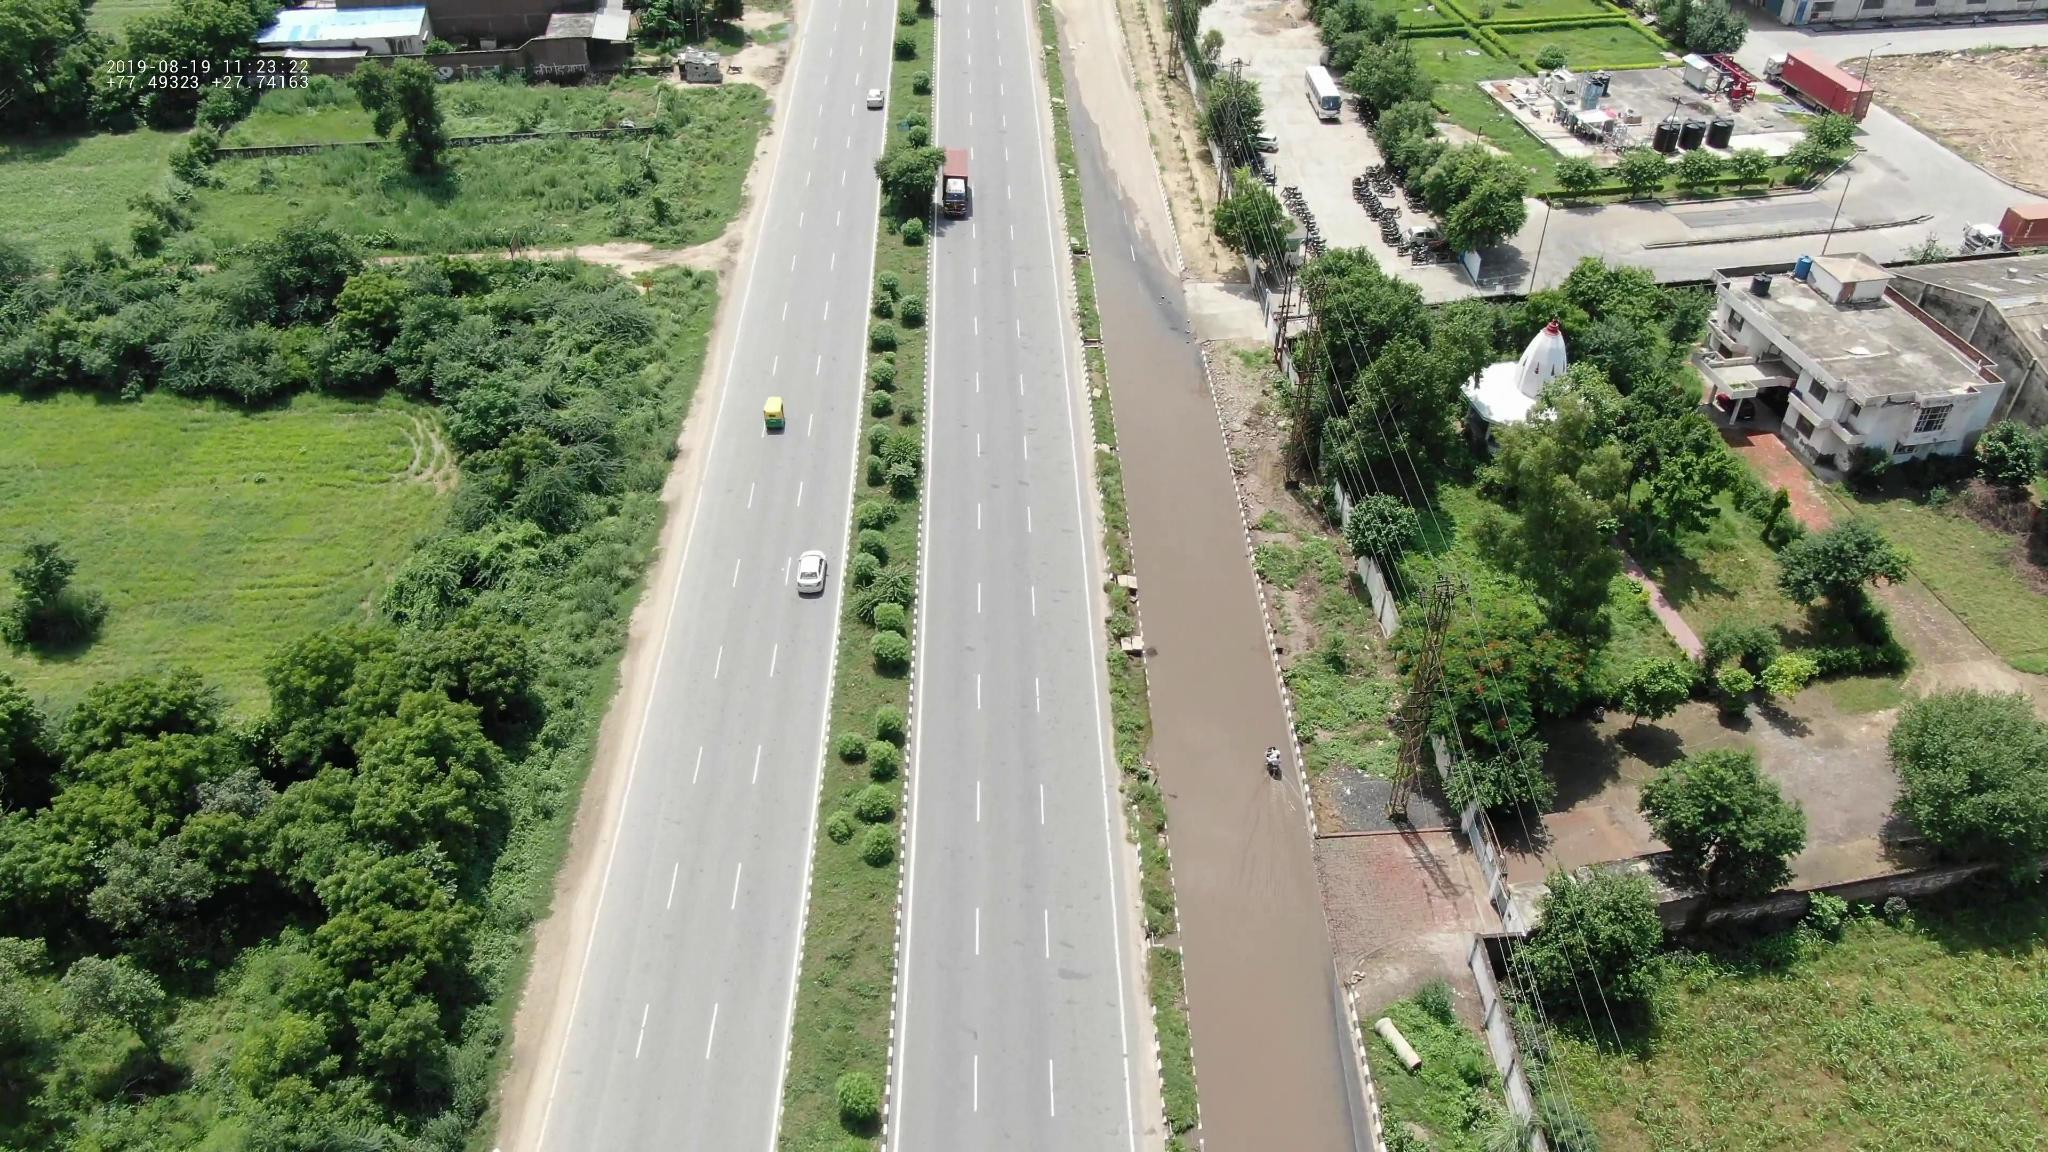Waterlogging: (1144, 729, 1355, 1145), (1101, 232, 1255, 717)
